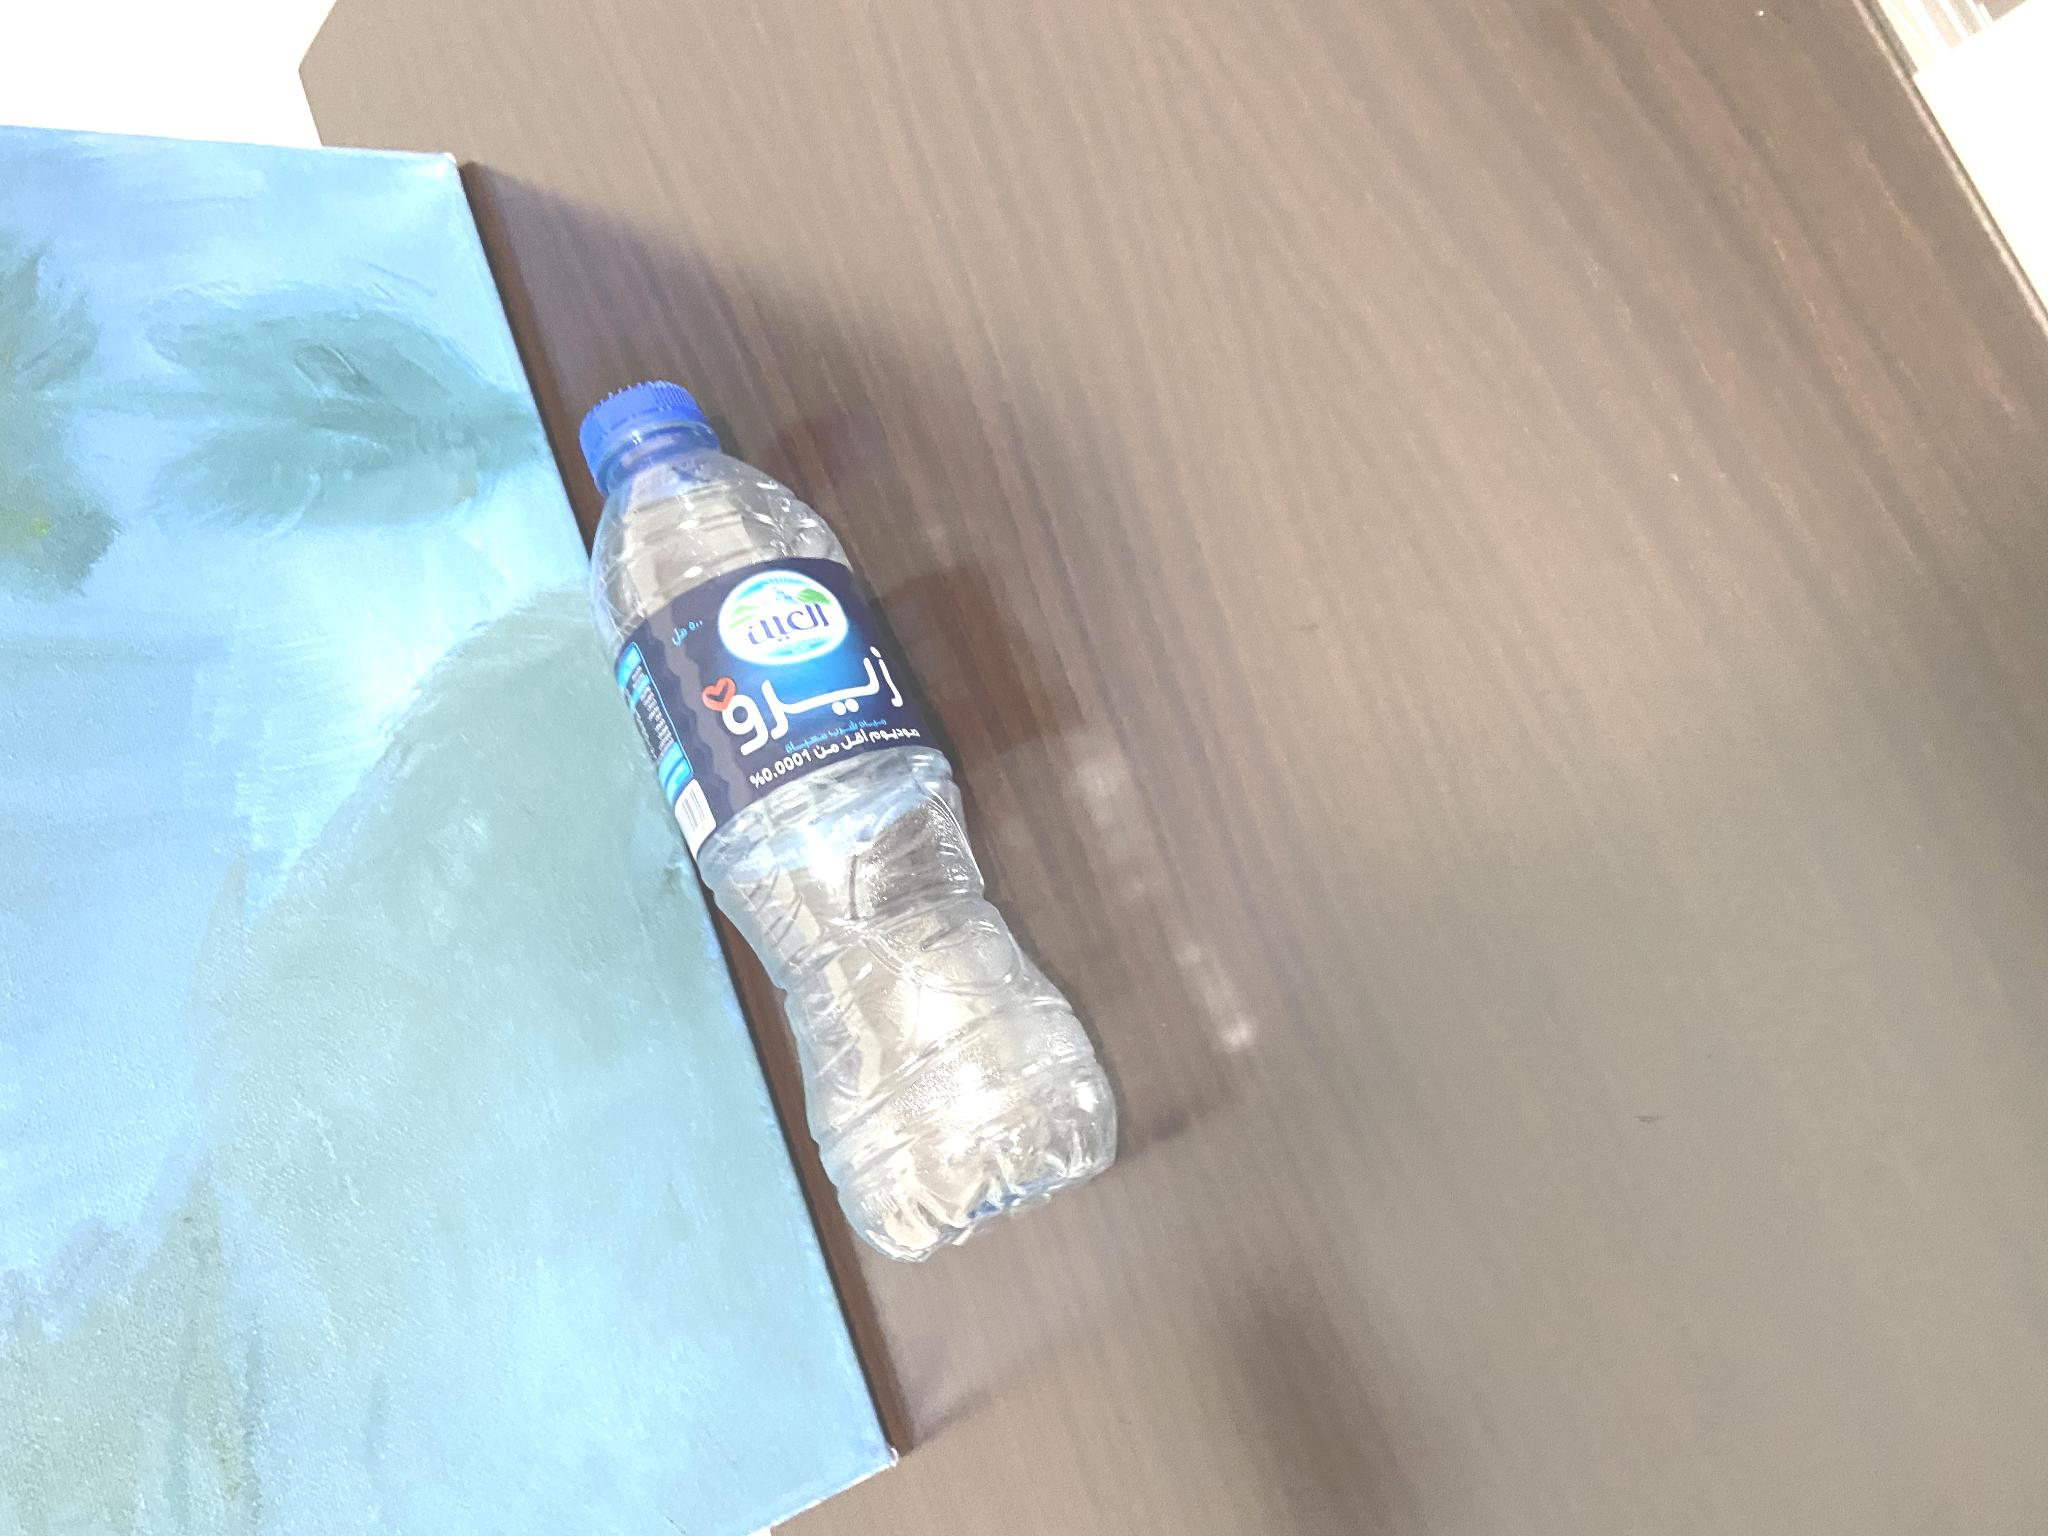bottle: (566, 372, 1140, 1254)
